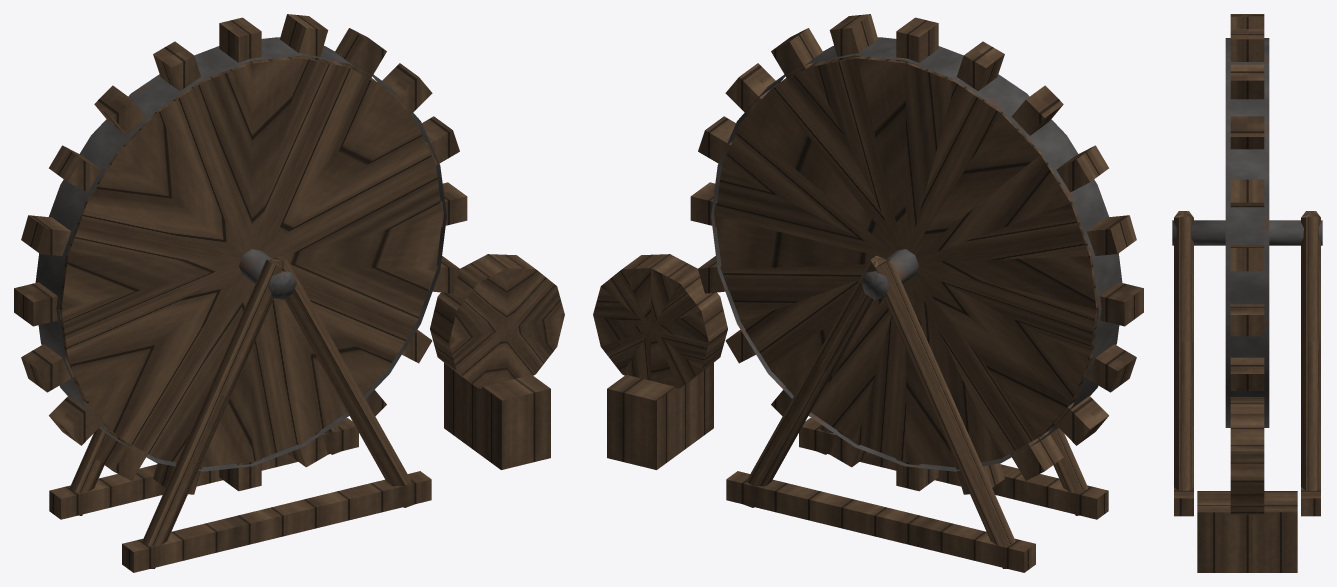
File: Gear_Large_1.gltf
3 views of the same model, side by side, from view 1: azimuth 30°, elevation 25°; view 2: azimuth 150°, elevation 25°; view 3: azimuth 270°, elevation 25° (orthographic). The views are drawn at different scales.
Visible parts, largest first — view 1: Gear_Large_1; view 2: Gear_Large_1; view 3: Gear_Large_1.
Part boxes in pixels (x1,y1,x2,y2): Gear_Large_1: [14, 14, 564, 572]; Gear_Large_1: [593, 14, 1143, 572]; Gear_Large_1: [1172, 14, 1322, 572].
Size of the model in its own units: 3.21 by 2.78 by 0.9.
Materials: 2 (2 with a texture image).
